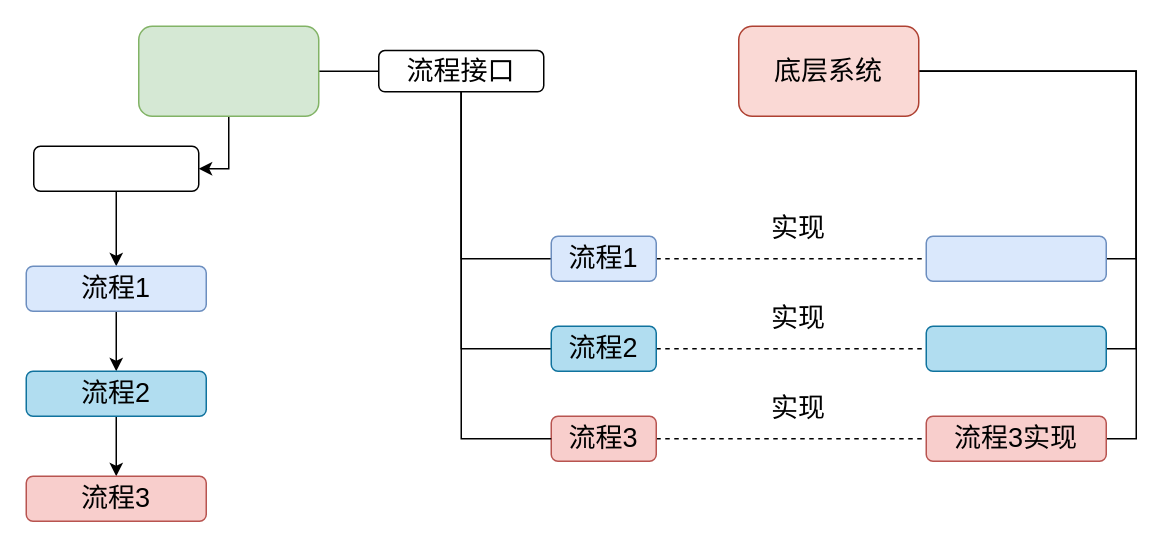
Image size: 1164x548. Some labels were removed from this diagram. Each missing label, with the centre of its shape:
上层系统: [228,70]
标准流程: [115,168]
流程1实现: [1015,258]
流程2实现: [1015,348]
